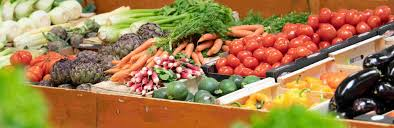carrot: (220, 19, 269, 41), (196, 29, 223, 66)
eggplant: (330, 56, 386, 111), (357, 40, 394, 82)
tomato: (307, 2, 394, 53), (226, 27, 308, 79)
